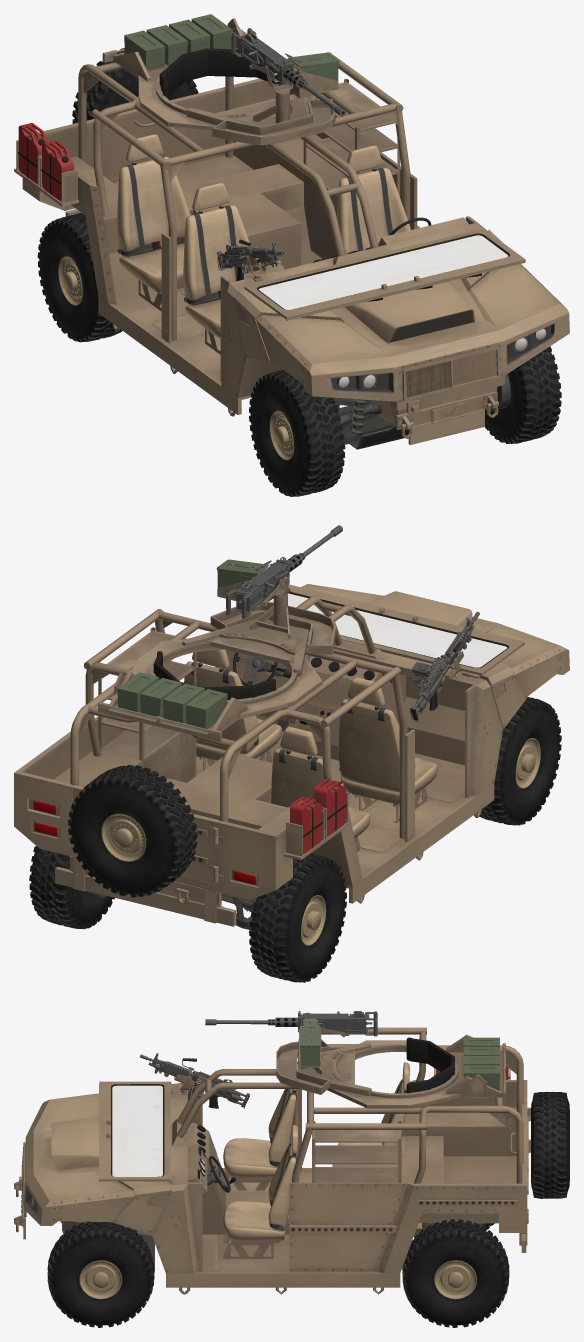
File: aquus-c.f9a9b15f.glb
3 views of the same model, one above another, from view 1: azimuth 30°, elevation 25°; view 2: azimuth 150°, elevation 25°; view 3: azimuth 270°, elevation 25° (orthographic). The views are drawn at different scales.
Visible parts, largest first — view 1: Plane.015_11, Plane.017_64, Plane.035_49, Cylinder.009_98, Plane.002_1, Plane.041_54, Cylinder.010_99, Plane.009_52, Plane.003_3, Plane.045_65, Plane.029_21, Cylinder.019_96 (+31 smaller); view 2: Plane.015_11, Cylinder.028_100, Plane.017_64, Cylinder.010_99, Plane.035_49, Cylinder.009_98, Plane.009_52, Plane.002_1, Plane.045_65, Plane.025_17, Plane.003_3, Plane.010_59 (+29 smaller); view 3: Plane.015_11, Cylinder.027_97, Cylinder.019_96, Plane.024_16, Plane.002_1, Plane.017_64, Plane.035_49, Plane.045_65, Cylinder.028_100, Plane.061_46, Plane.021_15, Plane.009_52 (+23 smaller).
Part boxes in pixels (x1,y1,x2,y2): Plane.015_11: (22,78,569,401); Plane.017_64: (78,29,410,340); Plane.035_49: (244,228,525,320); Cylinder.009_98: (249,370,345,496); Plane.002_1: (45,80,477,381); Plane.041_54: (117,134,190,293); Cylinder.010_99: (37,213,122,342); Plane.009_52: (183,183,253,338); Plane.003_3: (181,164,303,269); Plane.045_65: (304,82,397,259); Plane.029_21: (345,282,474,343); Cylinder.019_96: (485,346,561,443); Plane.015_11: (14,584,569,899); Cylinder.028_100: (68,765,197,897); Plane.017_64: (70,596,407,838); Cylinder.010_99: (249,853,346,982); Plane.035_49: (264,584,524,678); Cylinder.009_98: (476,697,561,825); Plane.009_52: (338,677,437,806); Plane.002_1: (22,666,475,841); Plane.045_65: (101,630,196,782); Plane.025_17: (242,655,473,771); Plane.003_3: (158,755,287,829); Plane.010_59: (117,672,227,728); Plane.015_11: (24,1080,527,1273); Cylinder.027_97: (402,1219,509,1327); Cylinder.019_96: (47,1221,154,1327); Plane.024_16: (289,1182,407,1271); Plane.002_1: (188,1082,516,1271); Plane.017_64: (177,1027,523,1183); Plane.035_49: (99,1081,172,1183); Plane.045_65: (312,1130,401,1182); Cylinder.028_100: (531,1091,569,1198); Plane.061_46: (223,1125,298,1242); Plane.021_15: (166,1273,400,1287); Plane.009_52: (223,1064,297,1180).
Bounding box in the file's own units: 2.33 × 2.56 × 4.85.
8 materials, 8 textured.
